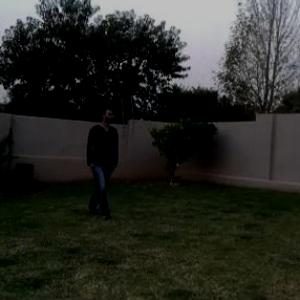follow: (81, 100, 126, 230)
